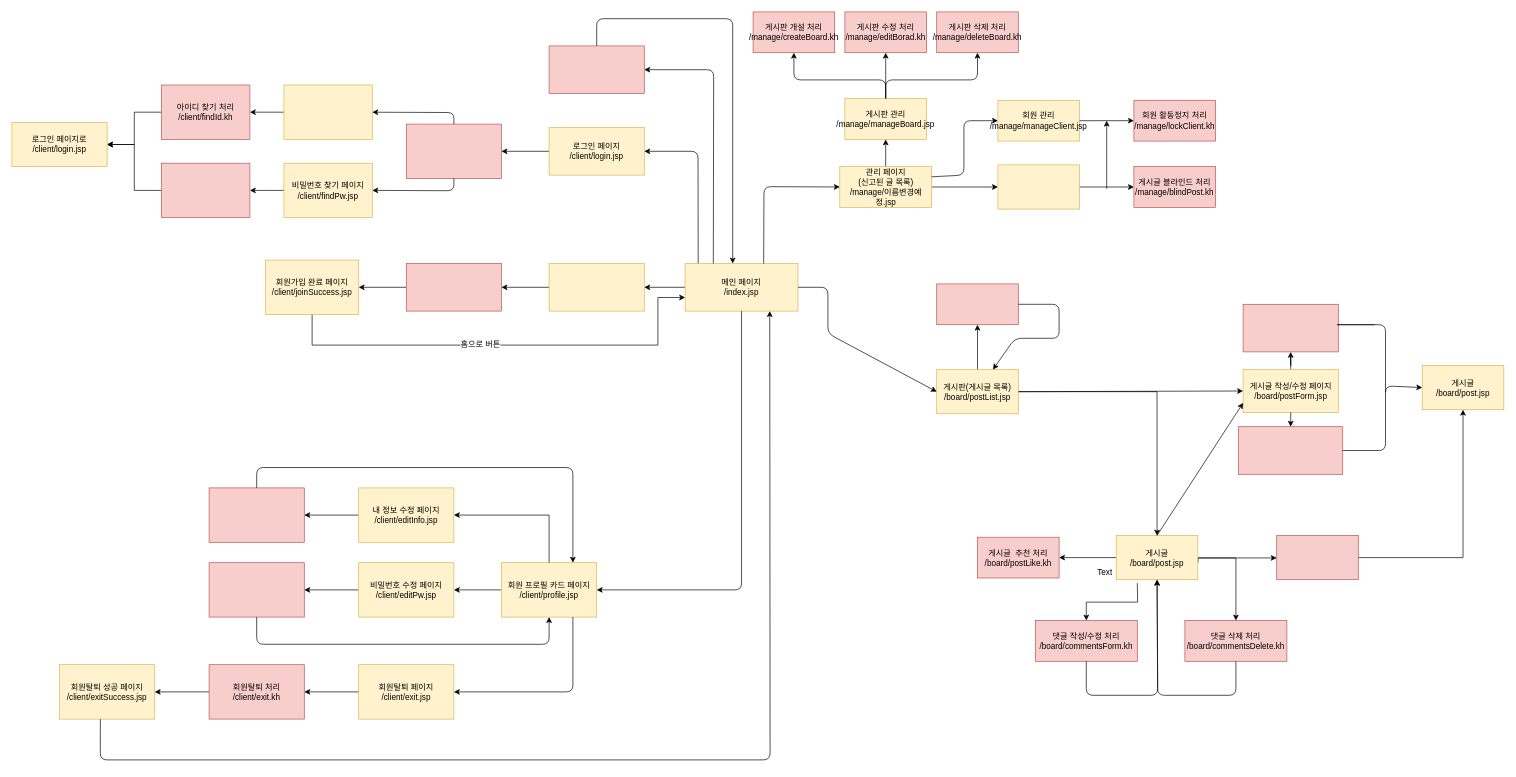
Some shapes in this 1516 by 777 pixel diagram are drawn without their labels. Each missing label, with the centre of its shape:
"검색 처리 /board/postSearch.kh" belongs at point (977, 304).
"게시글 (댓글일 경우 해당 댓글이 쓰인 게시글) /board/post.jsp" belongs at point (1038, 186).
"게시글 삭제 처리 /board/postDelete.kh" belongs at point (1317, 557).
"글 수정 처리 /board/postDelete.kh" belongs at point (1290, 450).
"글 작성 처리 /board/postInsert.kh" belongs at point (1290, 328).
"내 정보 수정 처리 /client/editInfo.kh" belongs at point (256, 514).
"로그아웃 처리 /clinet/logout.kh" belongs at point (596, 69).
"로그인 처리 /client/login.kh" belongs at point (454, 150).
"비밀번호 수정 처리 /client/editPw.kh" belongs at point (256, 589).
"비밀번호 찾기 처리 /client/findPw.kh" belongs at point (205, 190).
"아이디 찾기 페이지 /client/findId.jsp" belongs at point (327, 111).
"회원가입 처리 /client/join.kh" belongs at point (454, 287).
"회원가입 페이지 /client/join.jsp" belongs at point (596, 287).
